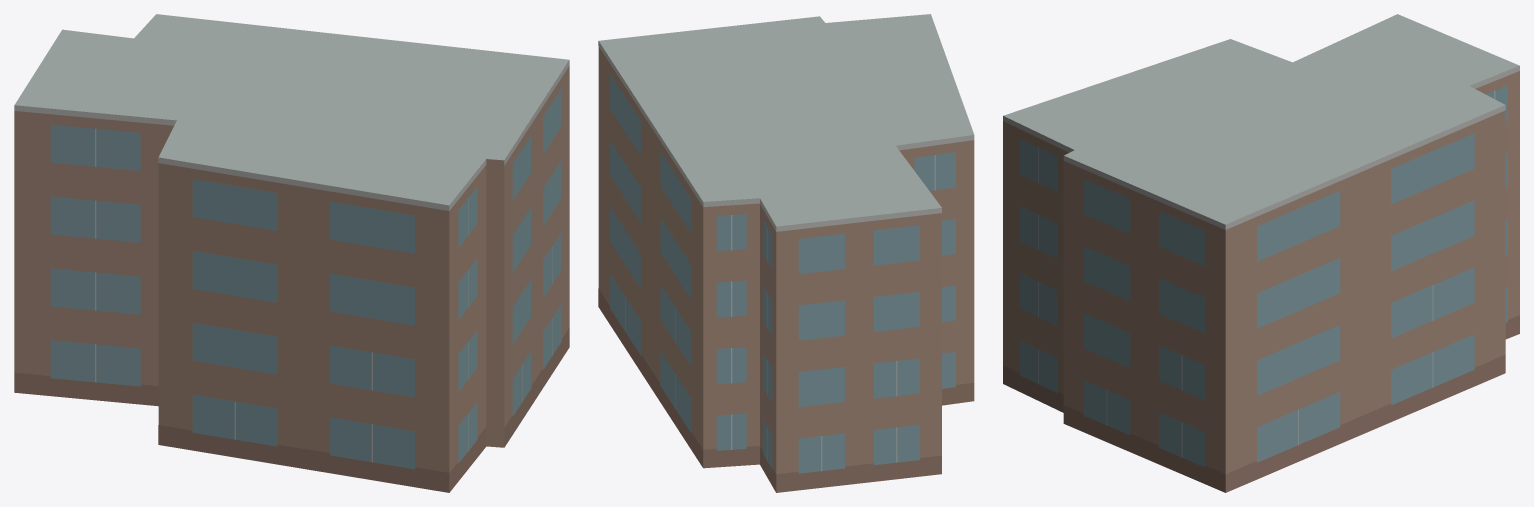
The model's file is survey-upis-32962095.glb.
3 views of the same model, side by side, from view 1: azimuth 30°, elevation 25°; view 2: azimuth 150°, elevation 25°; view 3: azimuth 270°, elevation 25° (orthographic). The views are drawn at different scales.
Parts seen in each view (by area): view 1: survey-upis-32962095.tmp; view 2: survey-upis-32962095.tmp; view 3: survey-upis-32962095.tmp.
Part boxes in pixels (x1,y1,x2,y2): survey-upis-32962095.tmp: (14,14,569,492); survey-upis-32962095.tmp: (598,14,974,492); survey-upis-32962095.tmp: (1003,14,1519,492).
Bounding box in the file's own units: 21.08 × 12.5 × 21.84.
